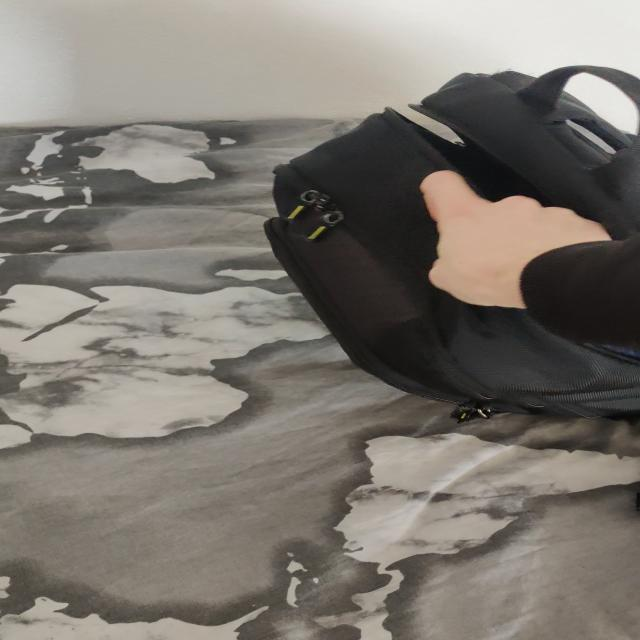backpack: (255, 54, 634, 427)
